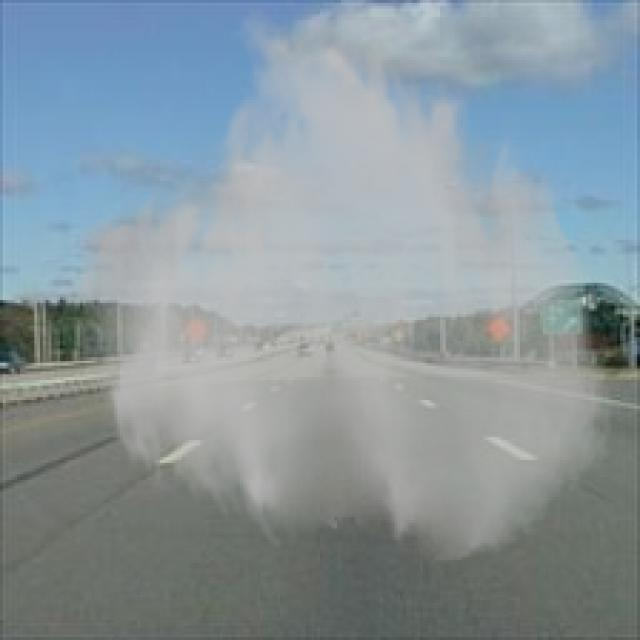Smoke: (68, 6, 618, 566)
